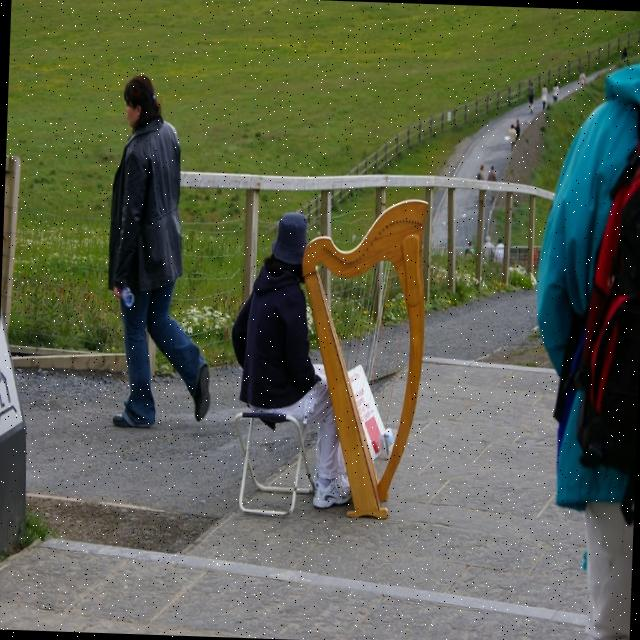harp: (292, 190, 435, 523)
